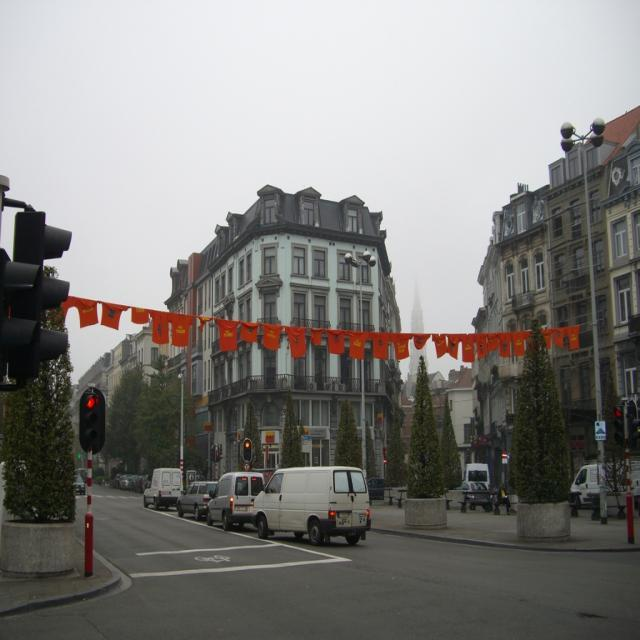traffic light: (10, 210, 75, 379), (0, 250, 44, 385), (80, 393, 99, 441), (613, 405, 624, 442)
